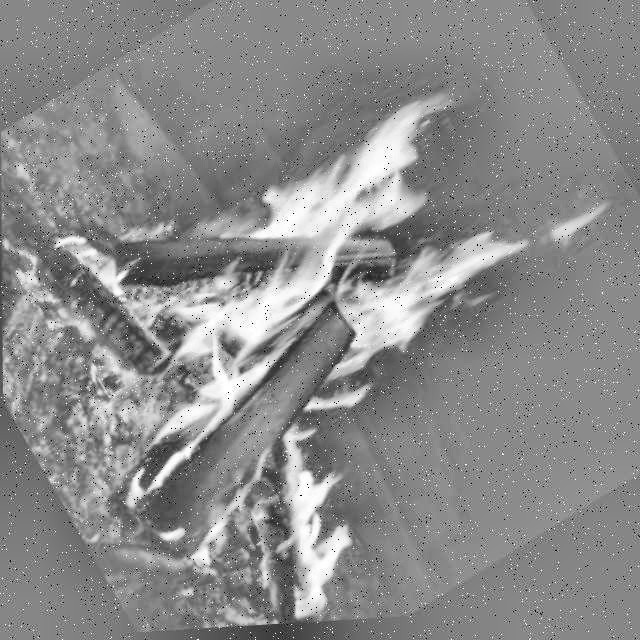Fire: (33, 40, 640, 638)
